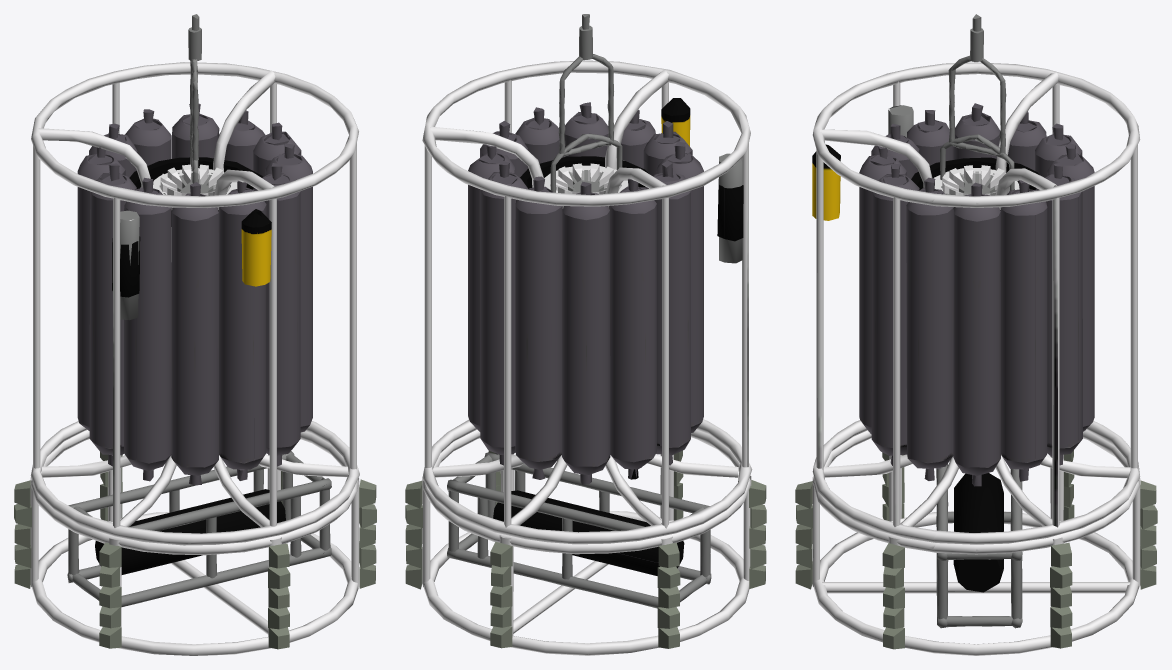
Rendered from CTD.glb.
3 renders of one model, left to right at view 1: azimuth 30°, elevation 25°; view 2: azimuth 150°, elevation 25°; view 3: azimuth 270°, elevation 25°, orthographic.
Visible parts, largest first — view 1: SM_CTD; view 2: SM_CTD; view 3: SM_CTD.
Boxes of the visible parts, bbox=[...] form: SM_CTD: bbox=[14, 14, 376, 655]; SM_CTD: bbox=[405, 14, 766, 655]; SM_CTD: bbox=[795, 14, 1157, 655].
Bounding box in the file's own units: 48.11 × 93.07 × 53.22.
1 material, 1 textured.
